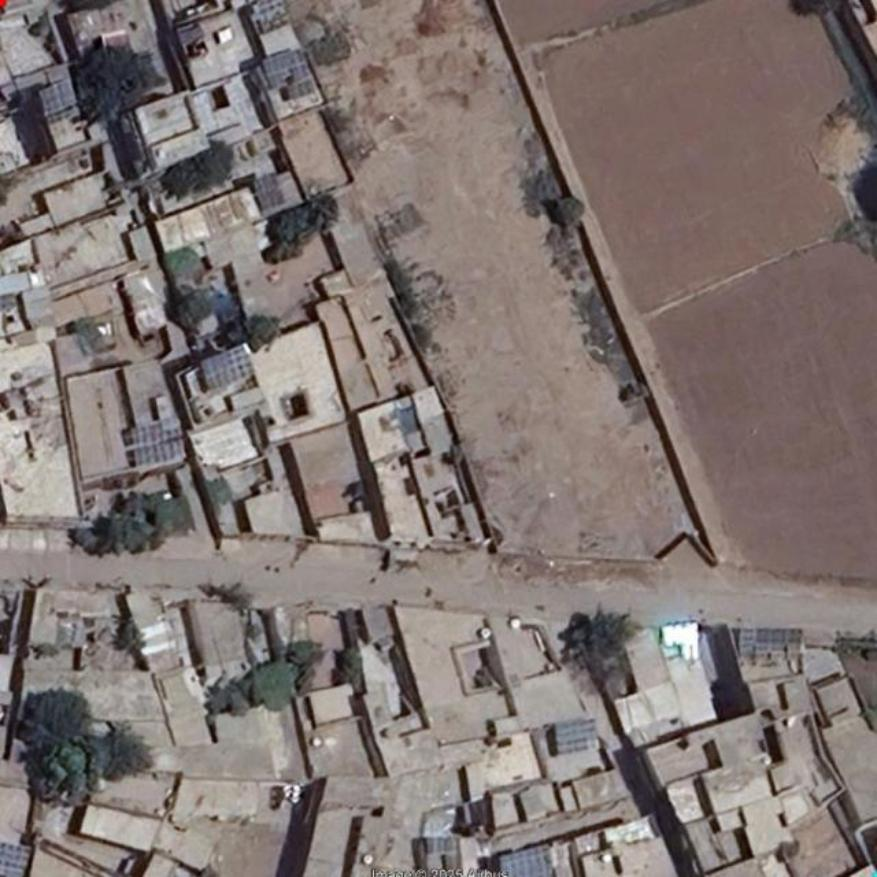Solarpanel: (202, 342, 255, 390), (133, 423, 183, 461), (262, 50, 310, 85), (555, 719, 599, 753), (740, 629, 802, 653), (0, 844, 34, 876)
